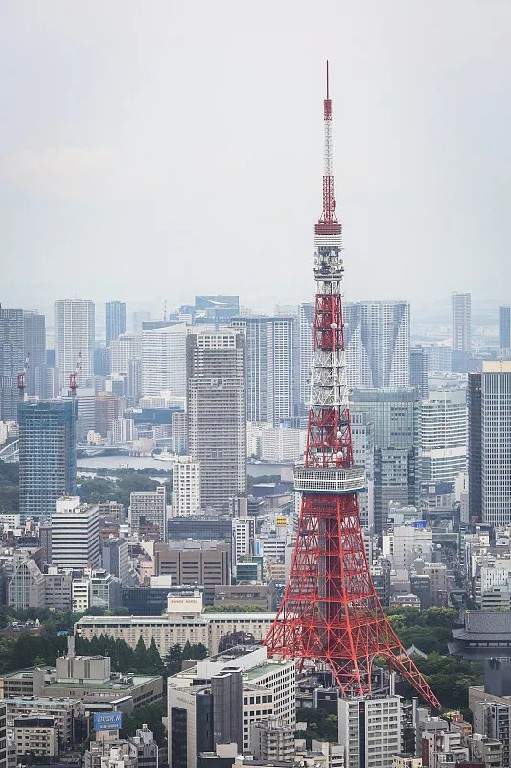Tokyo: (256, 51, 442, 709)
